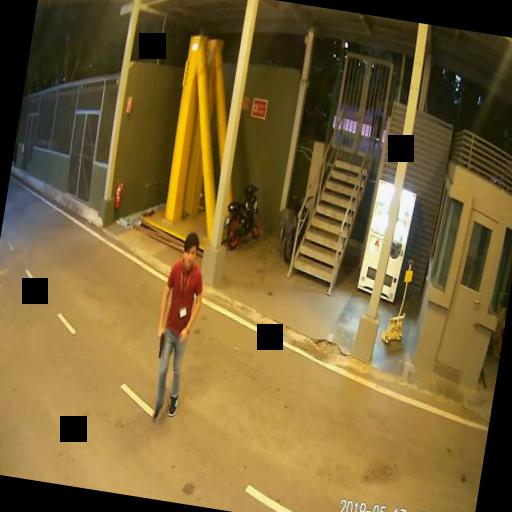Handgun: (152, 326, 164, 356)
